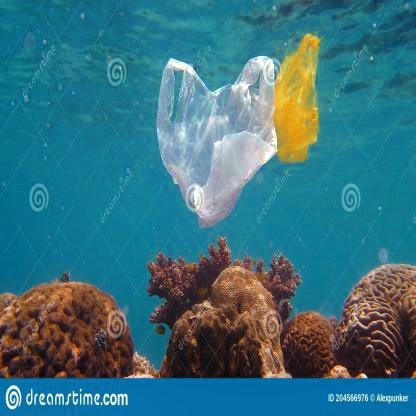pbag: (156, 53, 278, 229), (271, 34, 324, 162)
